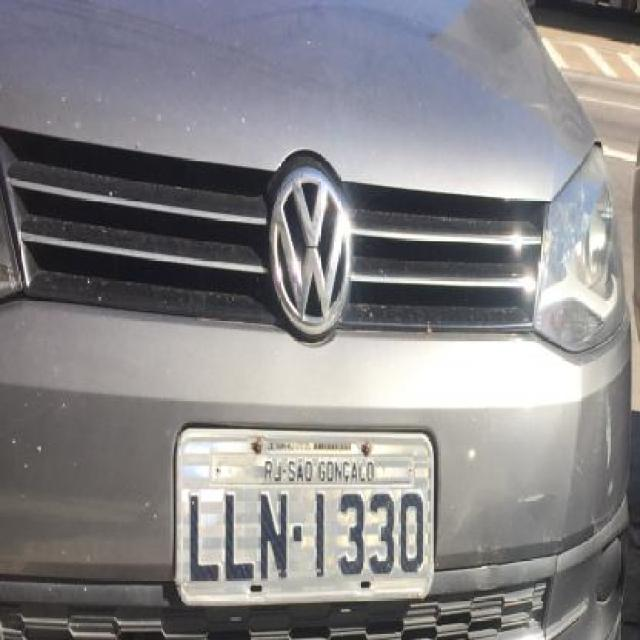old_plate: (168, 420, 442, 613)
